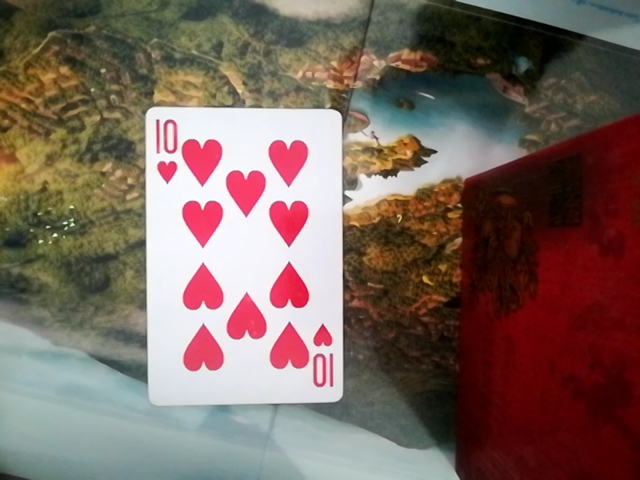hx 10: (135, 105, 343, 406)
